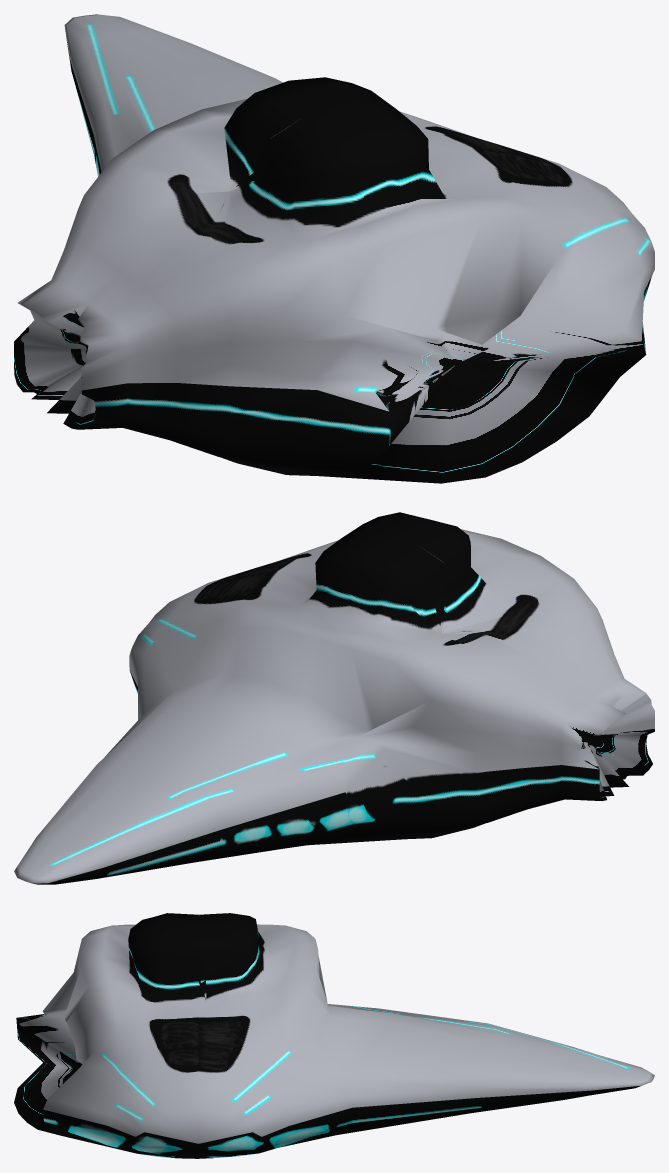
File: Ship1.fbx
The picture shows the model from 3 angles, top to bottom: view 1: azimuth 30°, elevation 25°; view 2: azimuth 150°, elevation 25°; view 3: azimuth 270°, elevation 25°; orthographic projection. The views are drawn at different scales.
Parts seen in each view (by area): view 1: Cube; view 2: Cube; view 3: Cube.
Boxes of the visible parts, x1,y1,x2,y2 form: Cube: (14,14,654,483); Cube: (14,512,654,884); Cube: (14,913,654,1158).
Bounding box in the file's own units: 782 × 1141 × 426.
